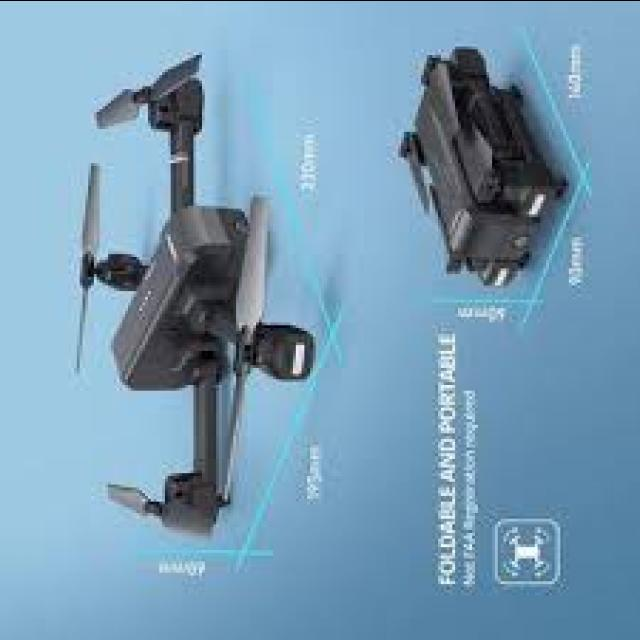drone: (56, 48, 336, 586)
